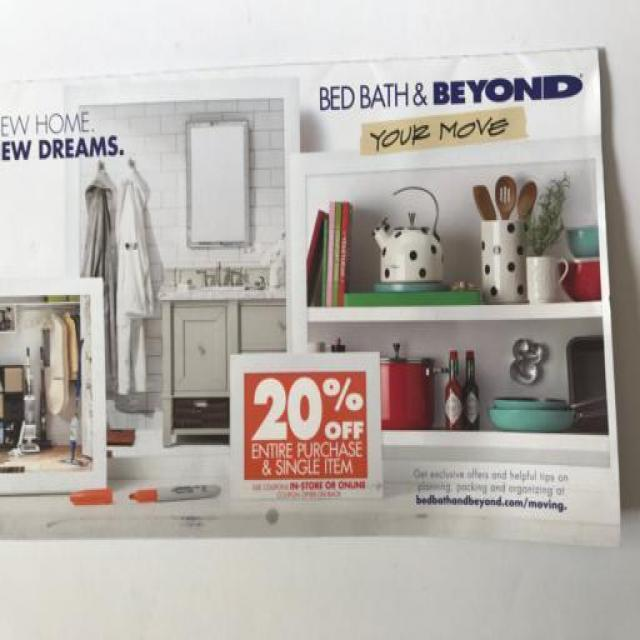paper: (17, 73, 621, 576)
